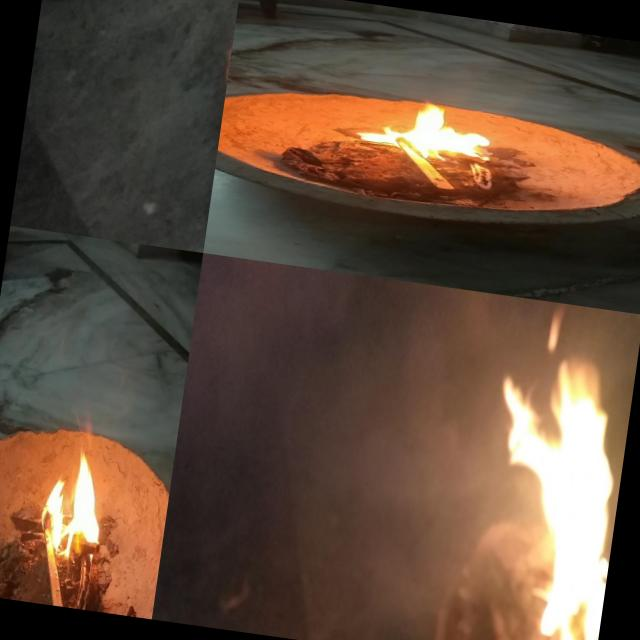fire: (30, 421, 121, 589), (352, 91, 514, 170), (530, 422, 627, 520), (487, 344, 550, 484), (540, 341, 632, 434), (533, 509, 615, 598), (525, 586, 604, 640), (538, 302, 566, 354)
smoke: (327, 298, 509, 622), (468, 503, 543, 635)
